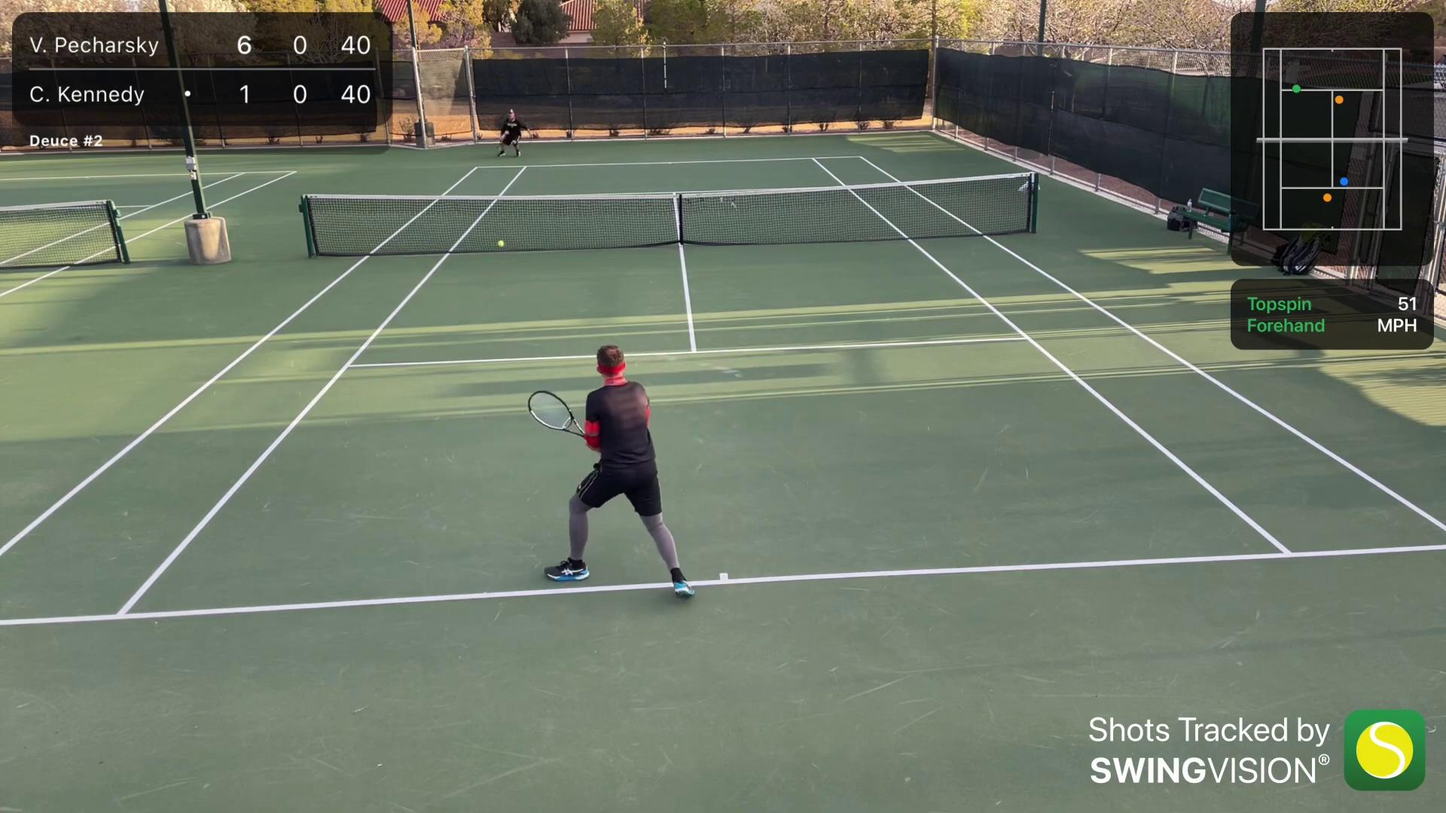ball: (497, 239, 505, 248)
